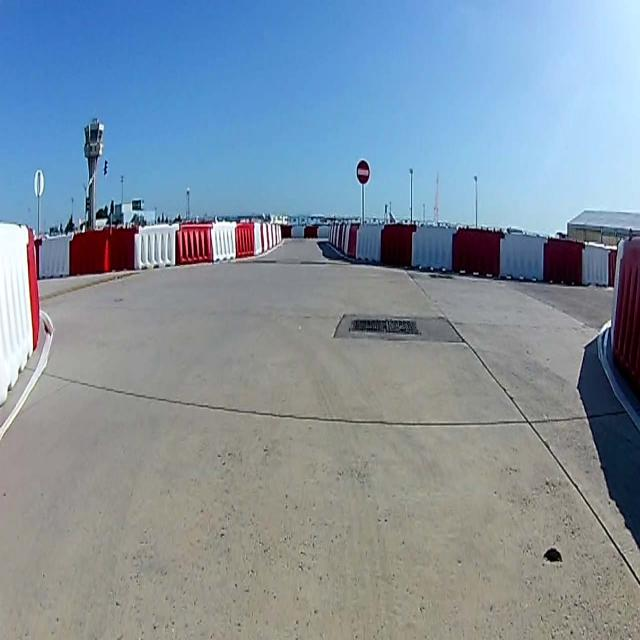girisyok: (356, 158, 370, 182)
